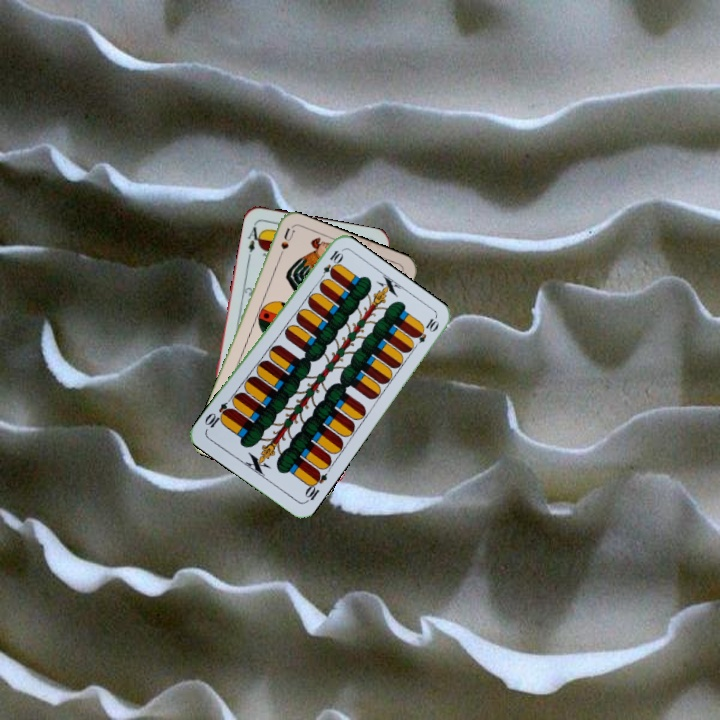E10: (300, 466, 330, 505), (315, 246, 345, 284)
EA: (243, 220, 265, 255)
SU: (273, 224, 297, 264)
